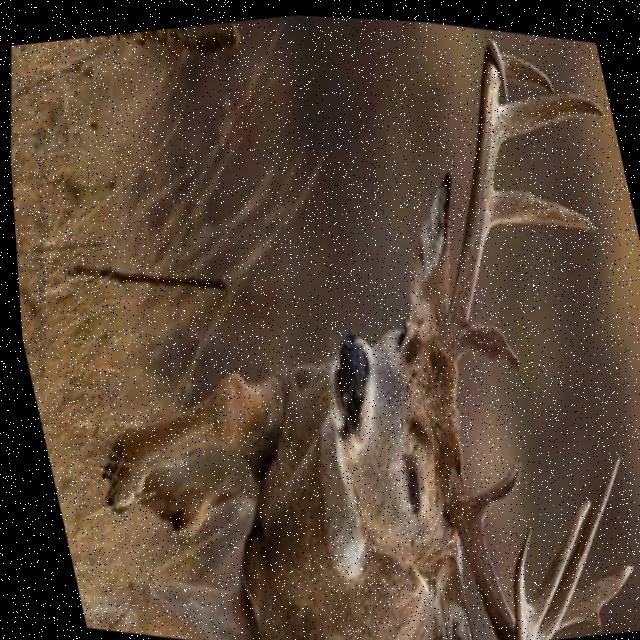L-F: (437, 460, 527, 640)
L-G1: (547, 554, 626, 629), (466, 453, 516, 520)
L-G2: (524, 443, 616, 637)
L-G3: (518, 489, 585, 637)
R-F: (434, 29, 507, 361)
R-G1: (457, 315, 518, 376)
R-G2: (484, 181, 595, 229)
R-G3: (495, 85, 603, 151)
